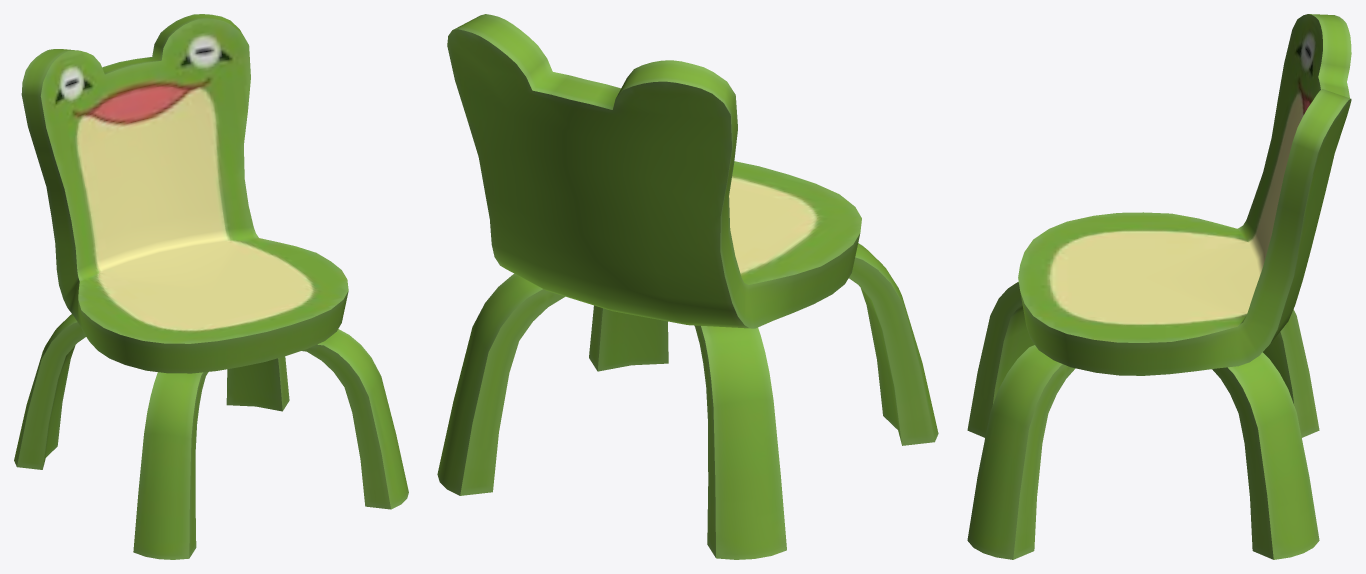
The model's file is SM_Froggy_Chair_e85df3.glb.
3 views of the same model, side by side, from view 1: azimuth 30°, elevation 25°; view 2: azimuth 150°, elevation 25°; view 3: azimuth 270°, elevation 25° (orthographic). The views are drawn at different scales.
Size of the model in its own units: 0.7065 by 0.9502 by 0.7707.
Materials: 1 (1 with a texture image).
